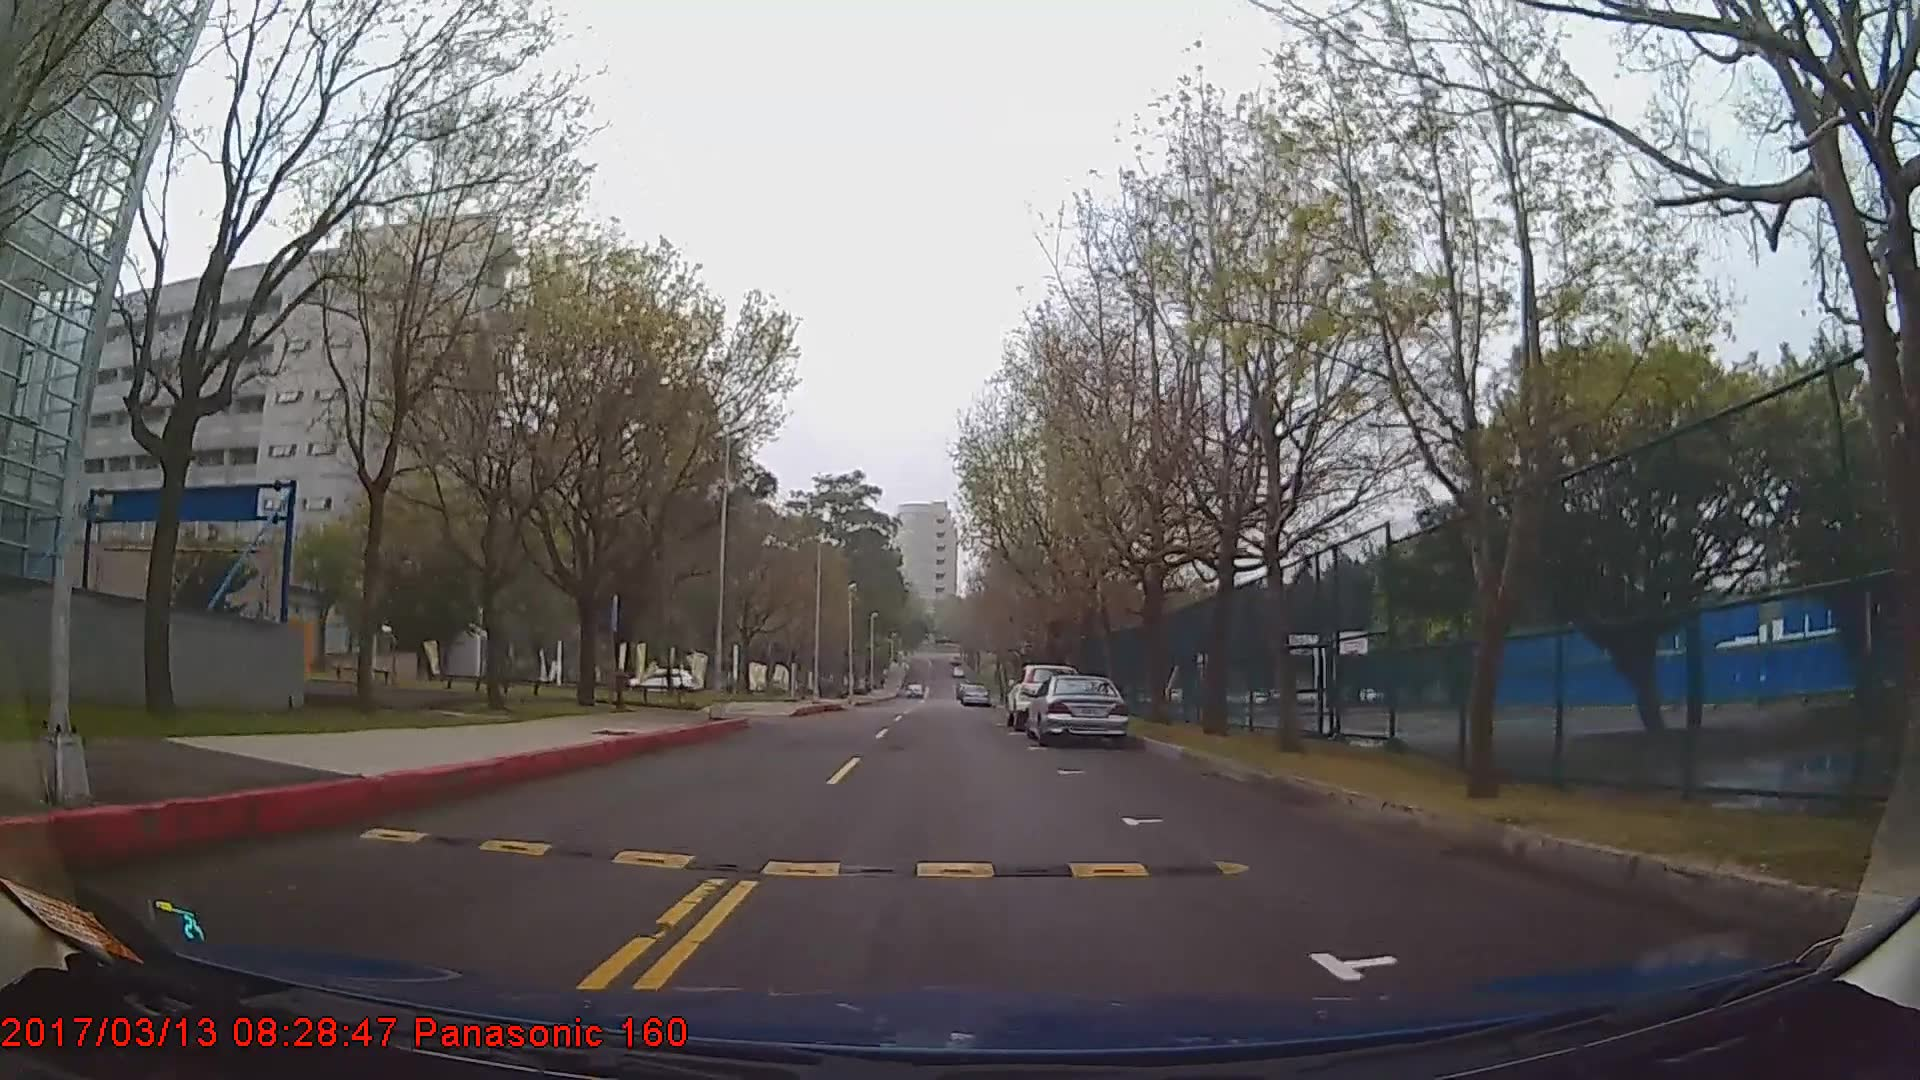vehicle: (1025, 674, 1130, 744), (1004, 663, 1077, 731), (957, 679, 992, 704)
